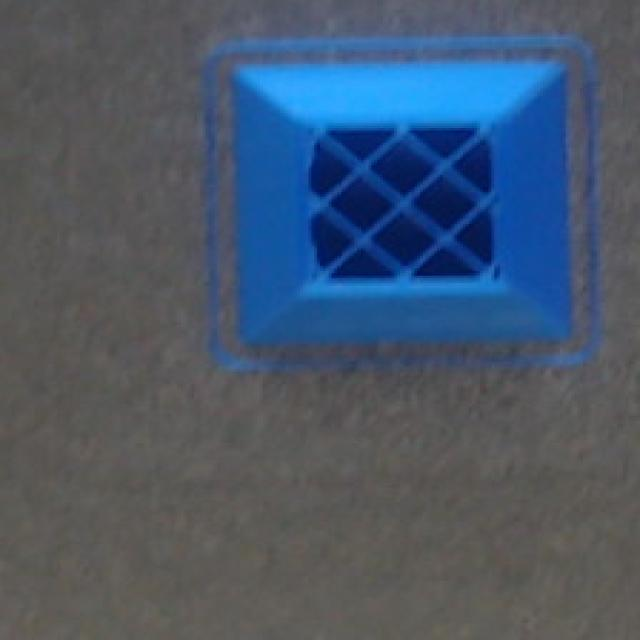noMistake: (206, 34, 597, 369)
